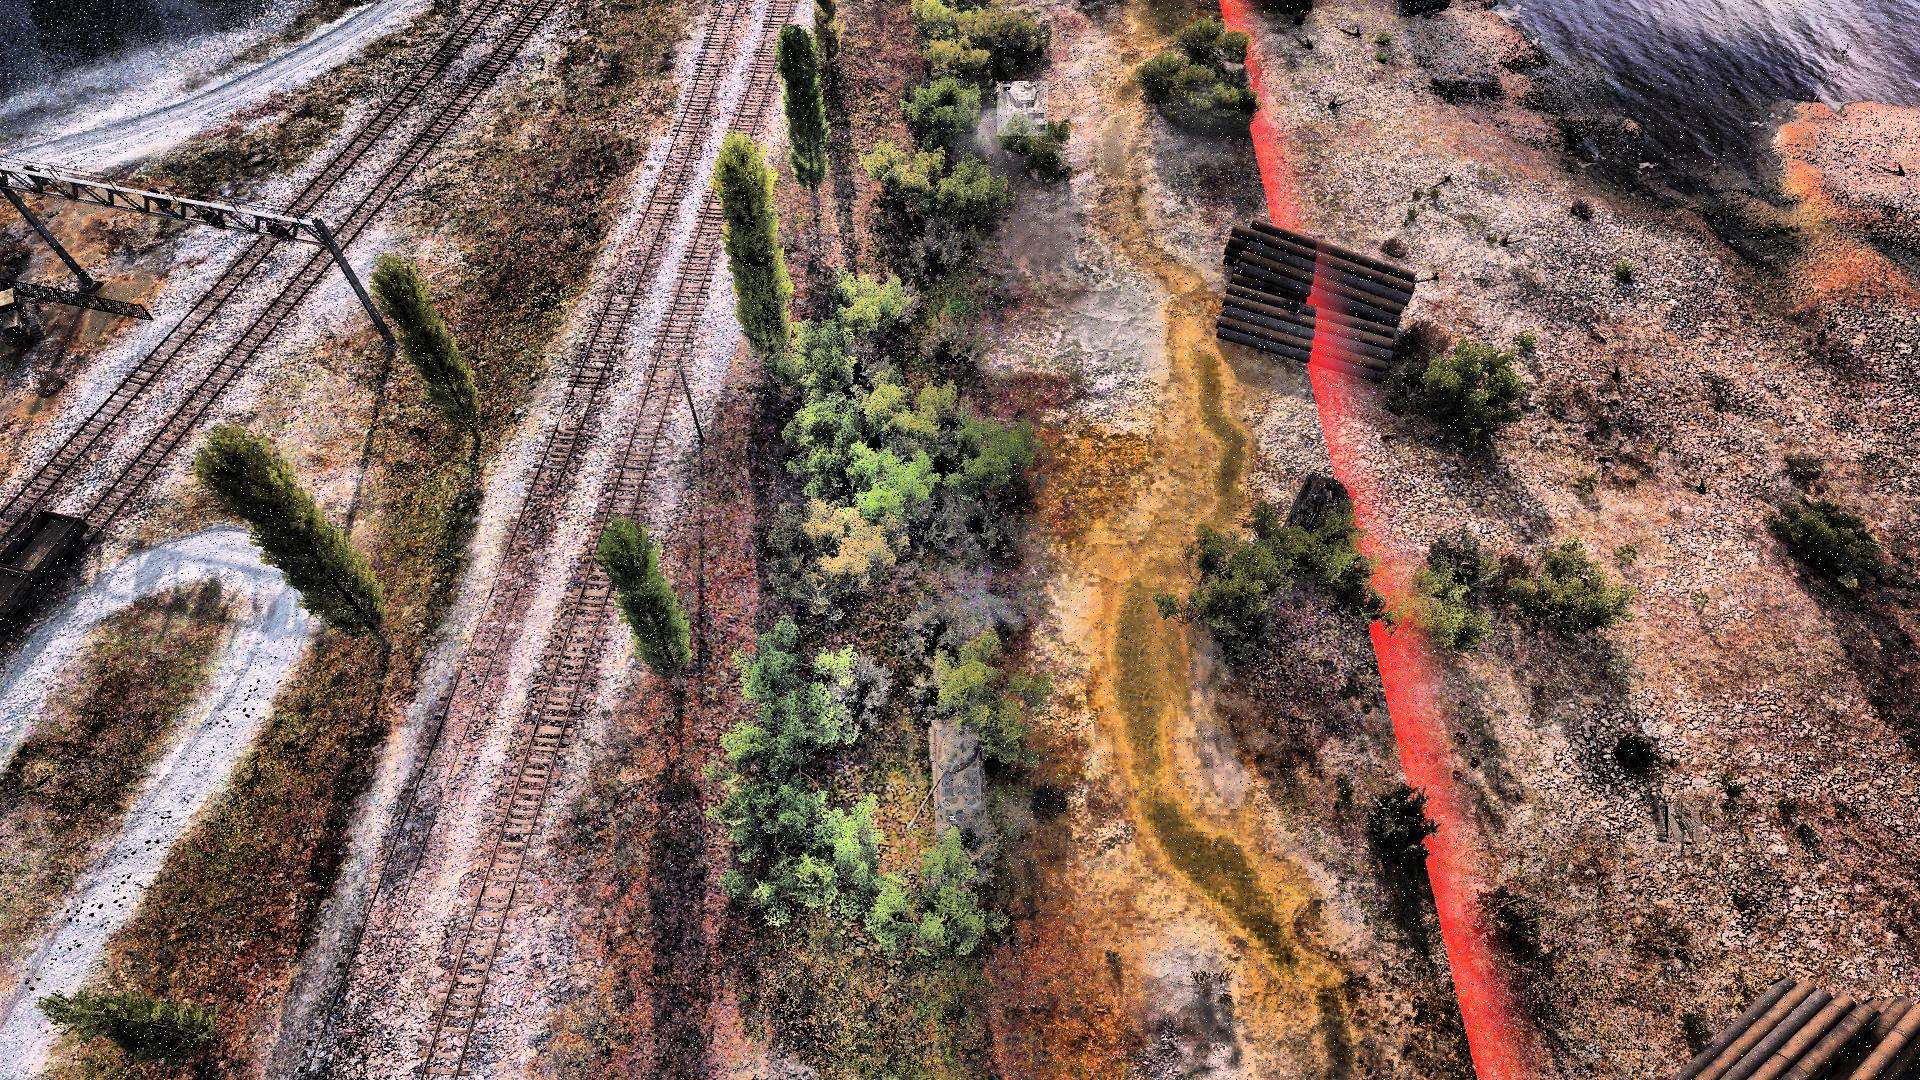military-vehicle: (907, 717, 990, 839), (997, 82, 1048, 137)
